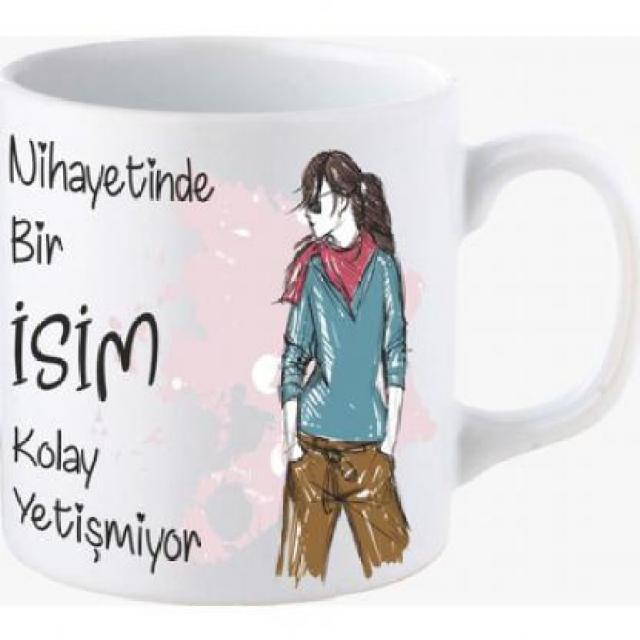taza: (0, 24, 640, 616)
